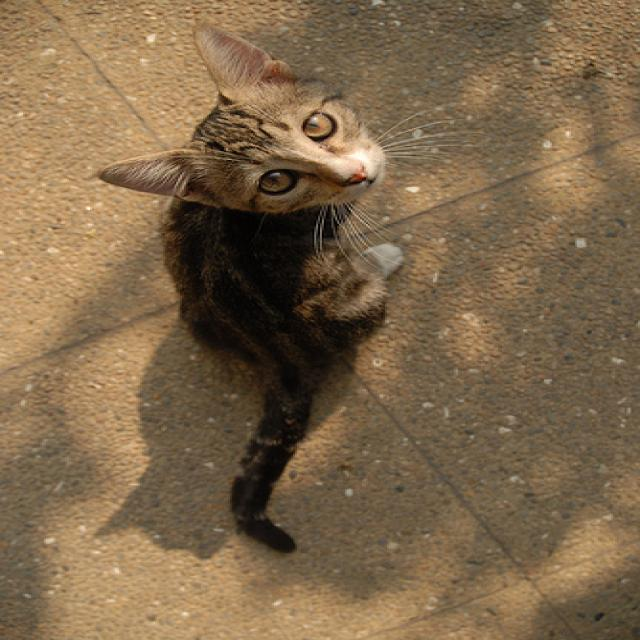left eye: (297, 109, 337, 141)
